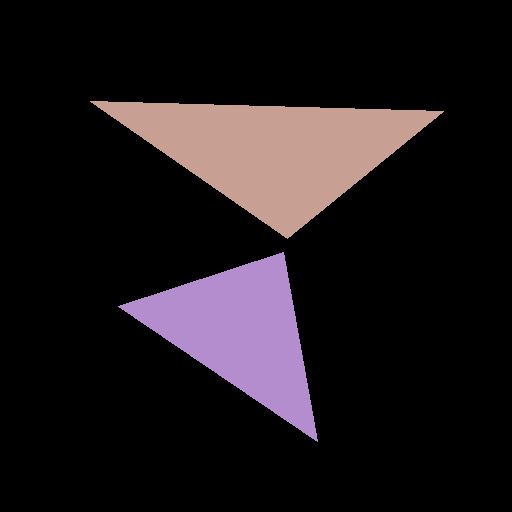triangle: (90, 101, 443, 238), (118, 252, 317, 441)
